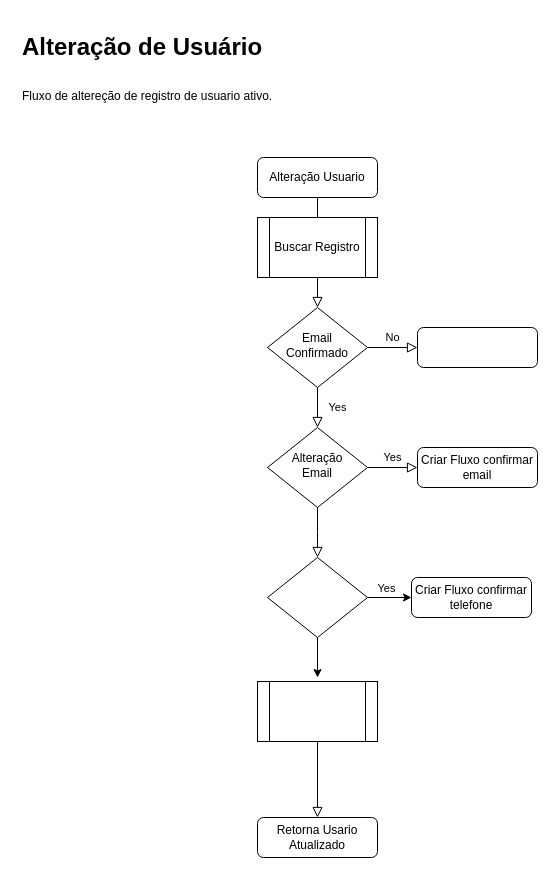
The diagram is 555 pixels wide and 875 high, and some of its shapes have lost their labels. The centre of each missing label's shape, as x and y in pixels:
Alteração Telefone: (x=317, y=597)
Atualizar Registro: (x=317, y=711)
Erro Email não confirmado: (x=477, y=347)
